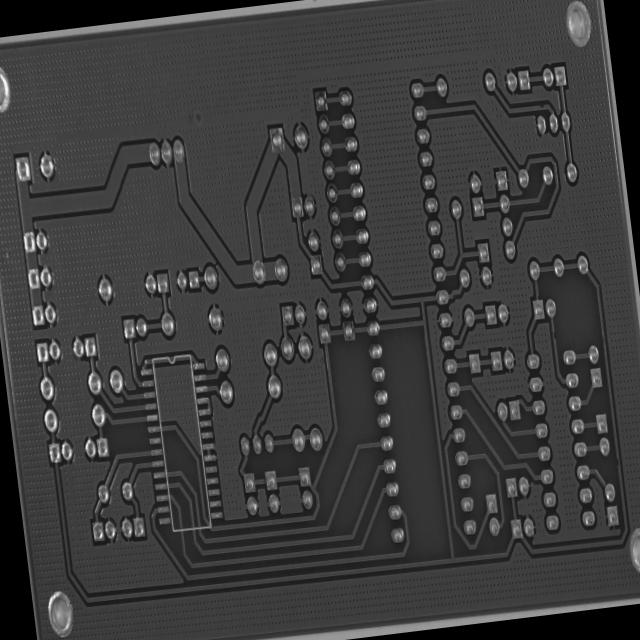mouse_bite: (612, 452, 622, 470), (536, 99, 546, 114), (550, 327, 558, 342)
